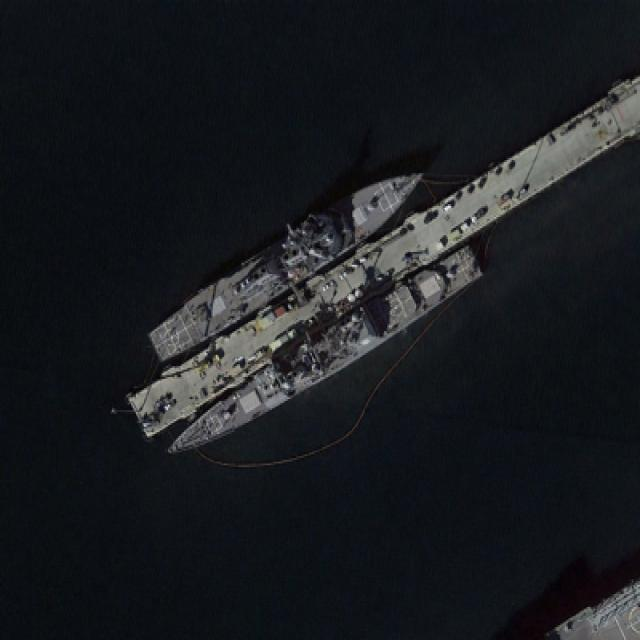boat: (165, 241, 488, 456), (146, 167, 427, 359)
